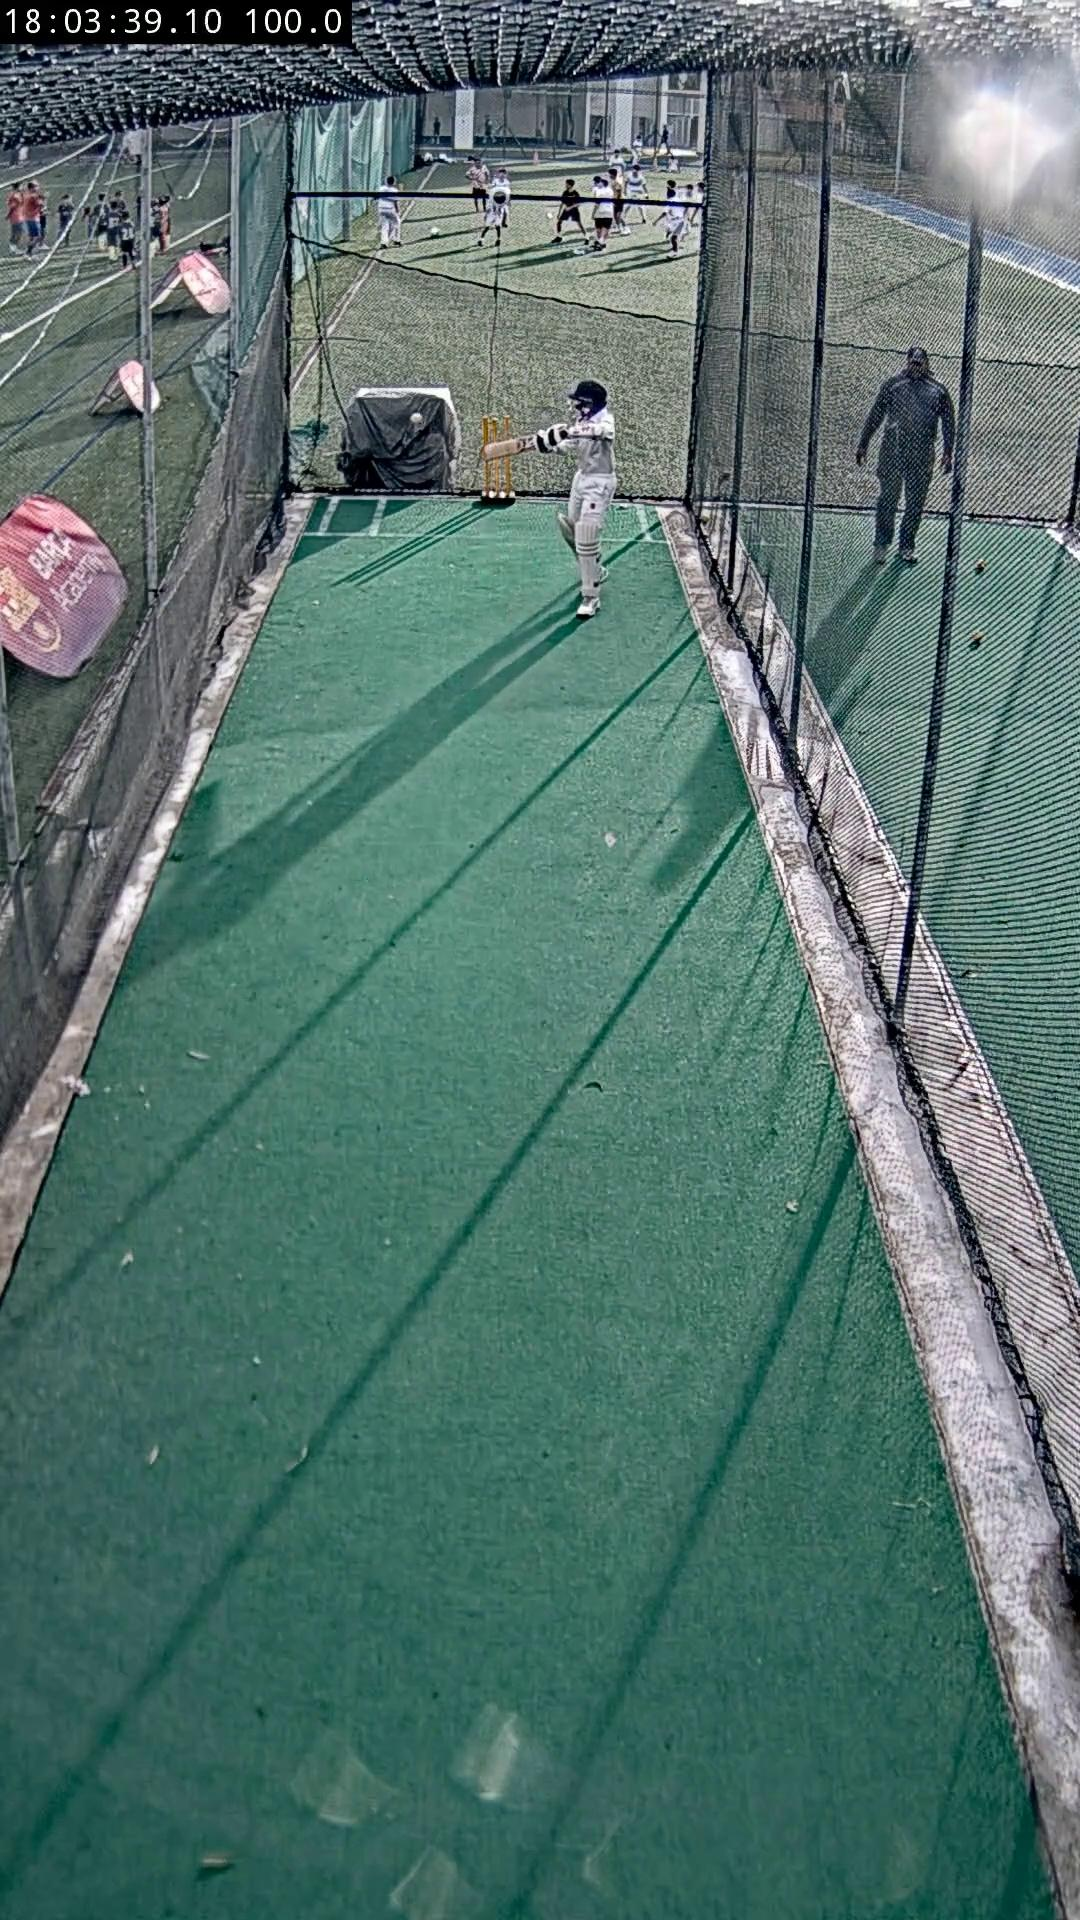ball: (409, 409, 423, 423)
bat: (484, 436, 533, 458)
gloves: (533, 423, 566, 454)
helmet: (570, 378, 608, 413)
pads: (555, 514, 604, 600)
stumps: (480, 458, 514, 506), (484, 417, 510, 440)
